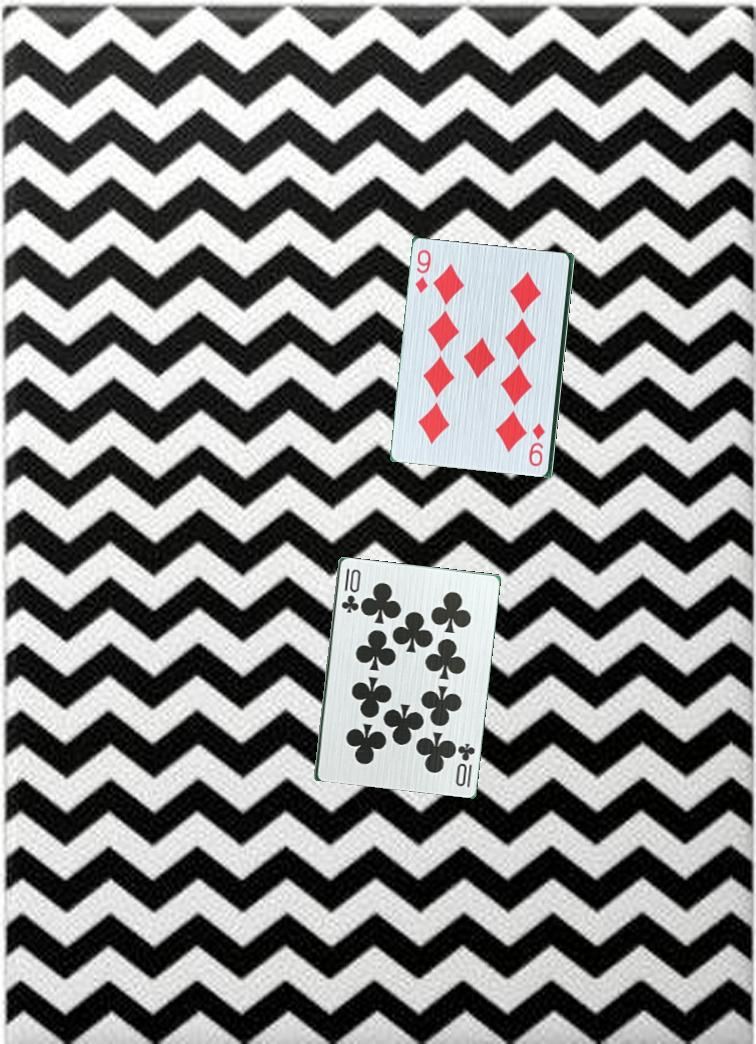9d: (412, 242, 434, 296), (527, 420, 548, 470)
tc: (337, 562, 363, 620), (452, 739, 478, 790)
